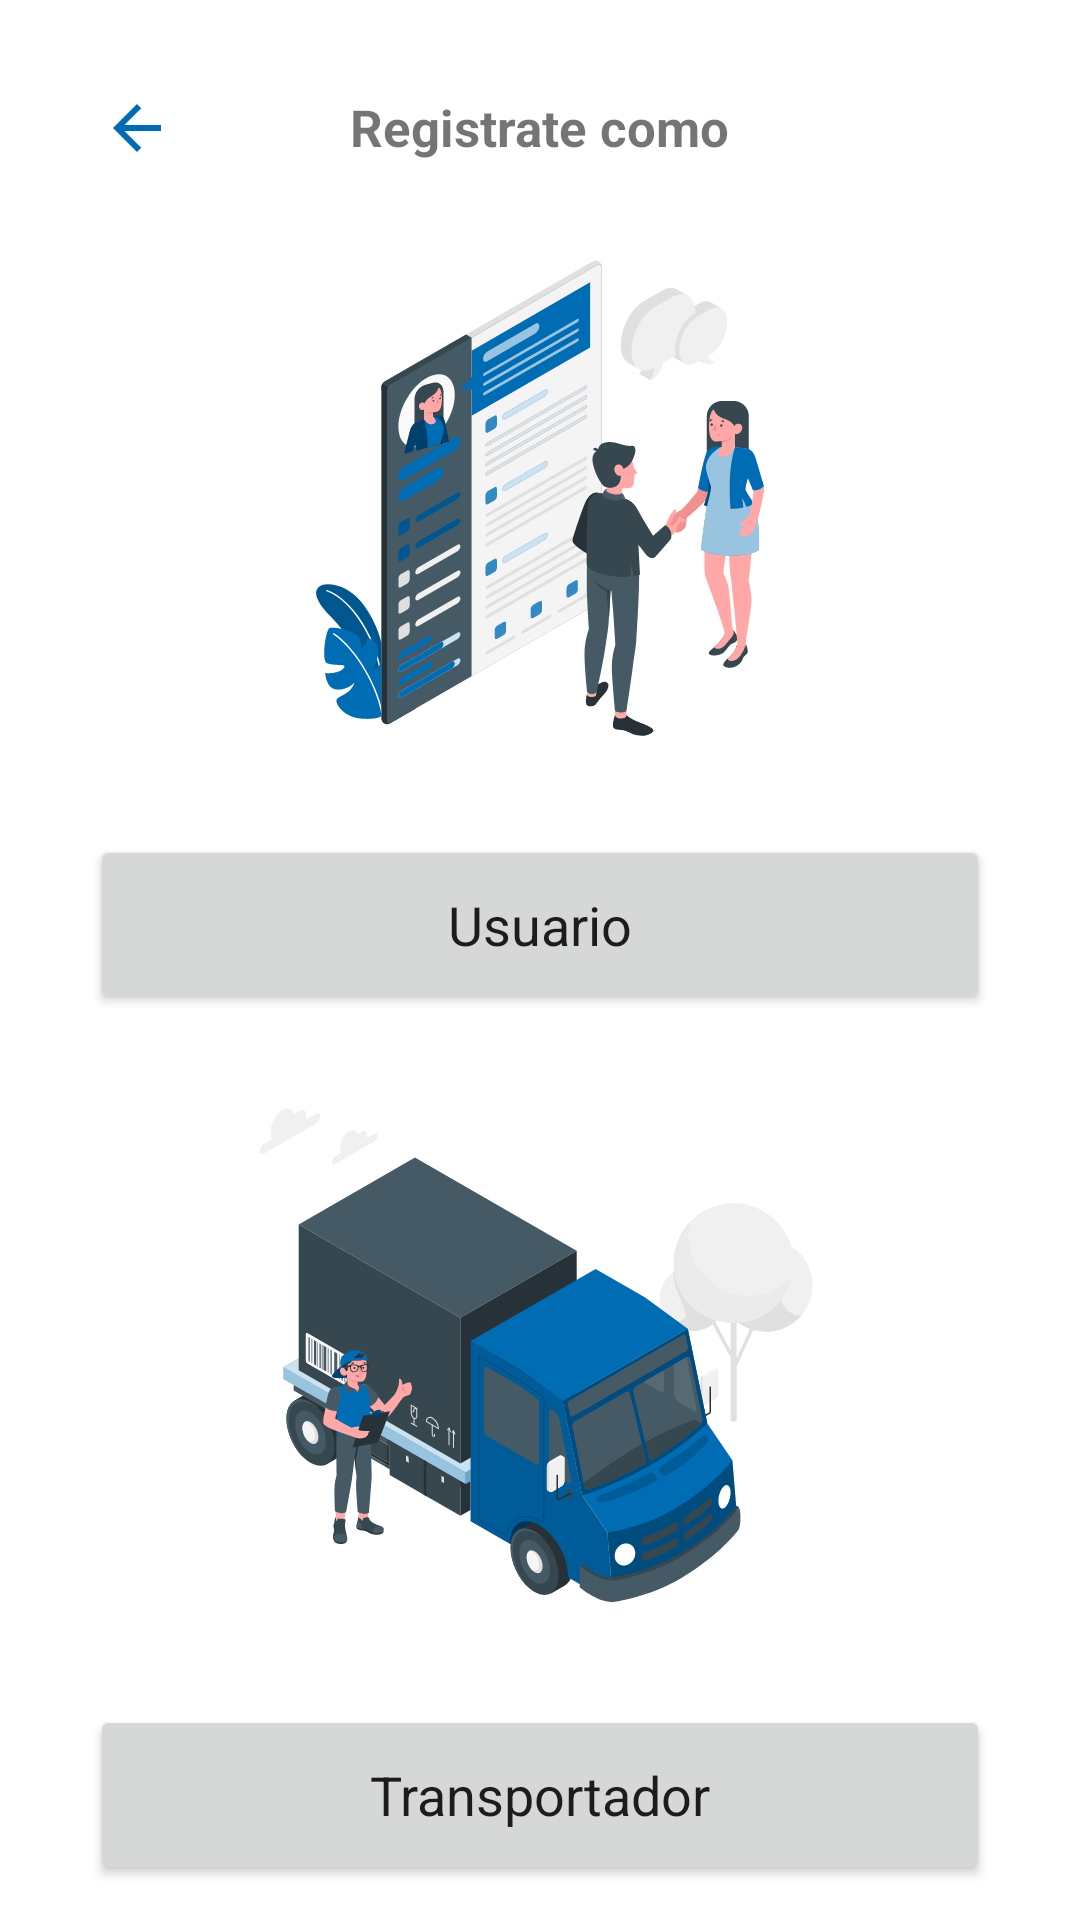

Icons on this 1080 x 1920 Android screen, each with the point to tap as (x=x, y=y):
flecha atras: (x=137, y=128)
